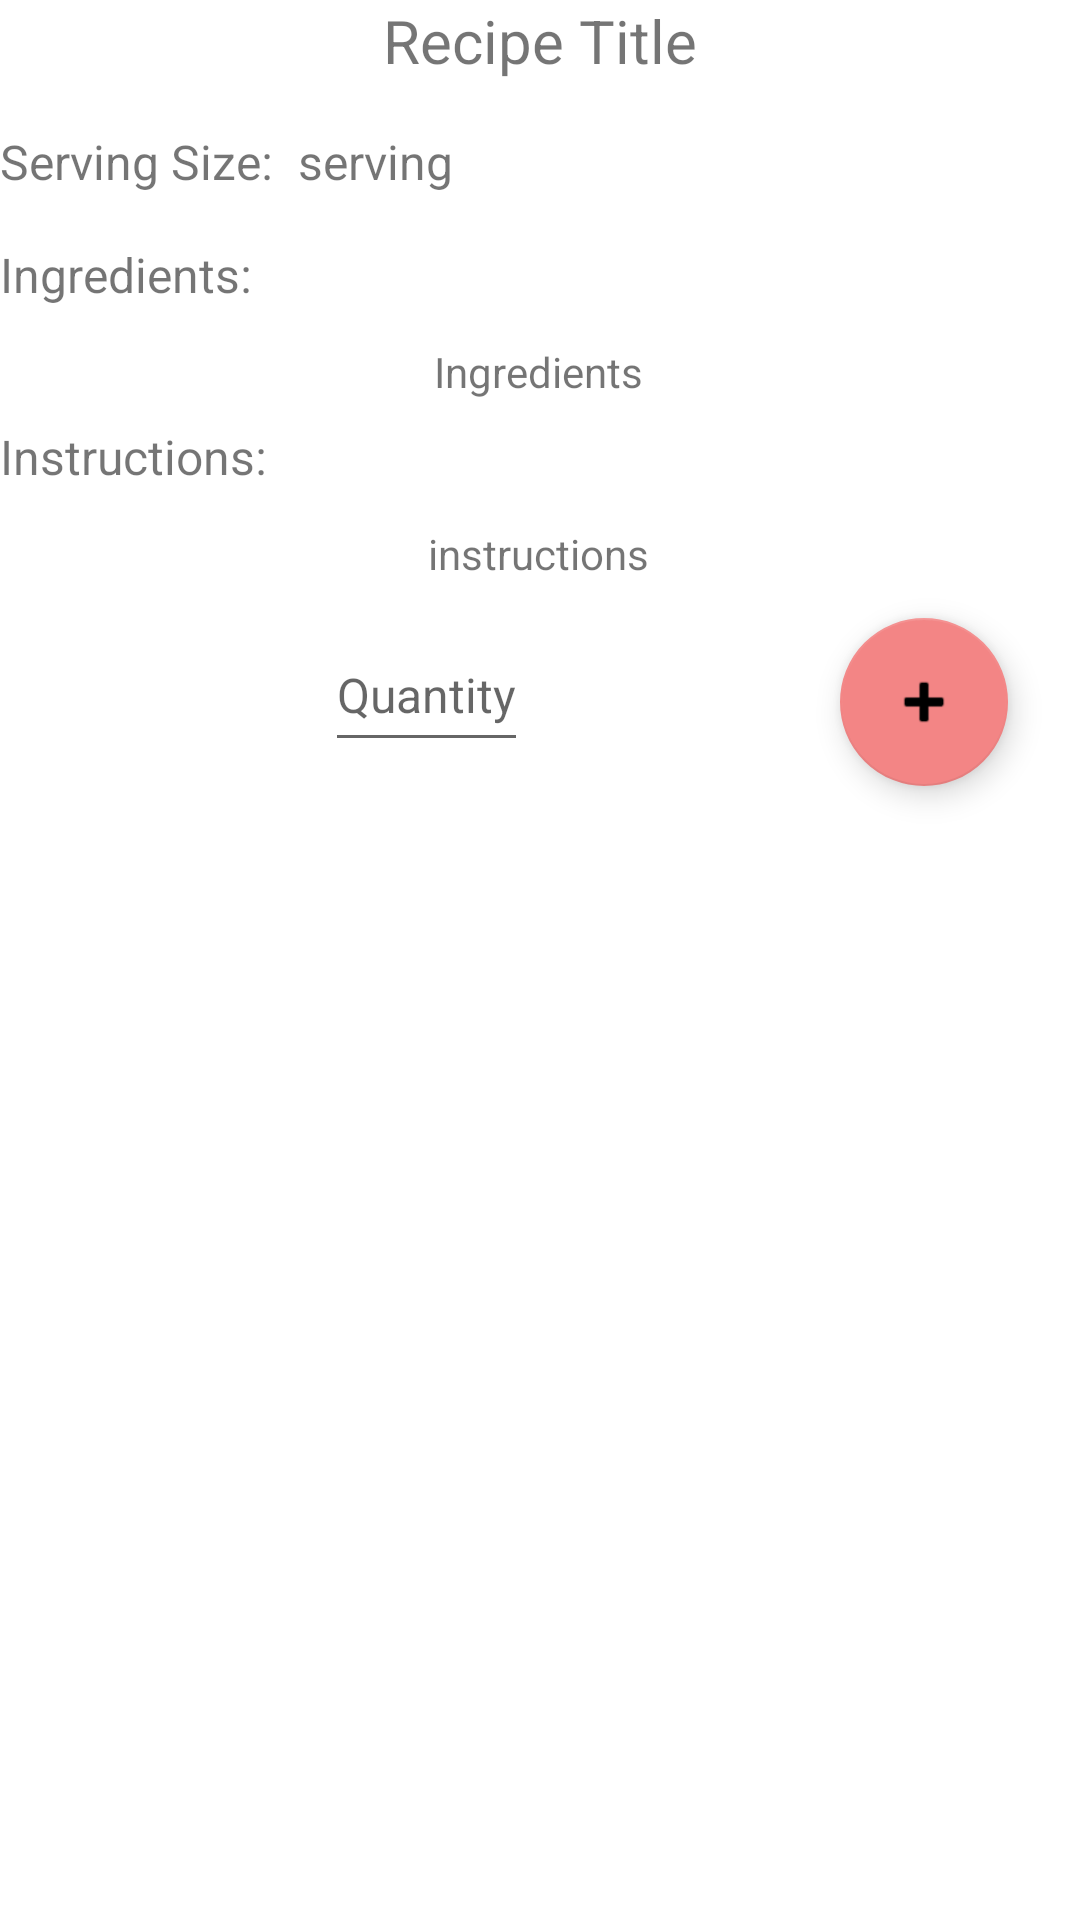

Icons on this 1080w x 1920h Android screen, each with the point to tap as [x,y]:
add: [924,702]
